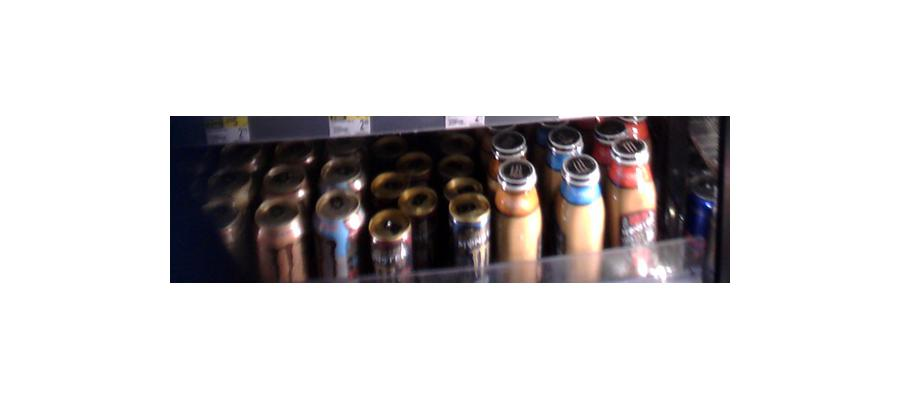bottle: (605, 113, 661, 277), (678, 115, 725, 282), (554, 148, 606, 279), (494, 150, 542, 282), (312, 159, 363, 279), (253, 181, 309, 281), (447, 187, 492, 277), (368, 203, 406, 282)
